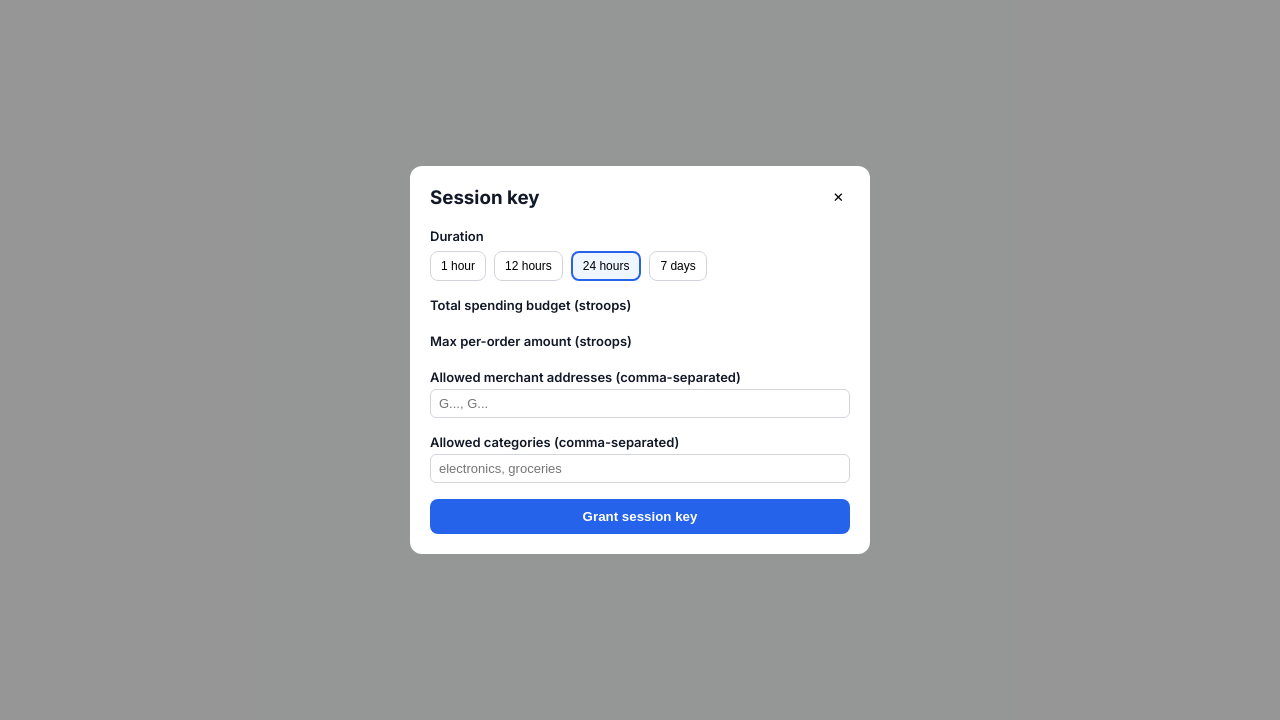
Test: SessionKeyGrantModal with Granular Permissions › validates granular input constraints when budget is zero
Click the button "Grant session key" at (640, 516), box [430,499,850,534]
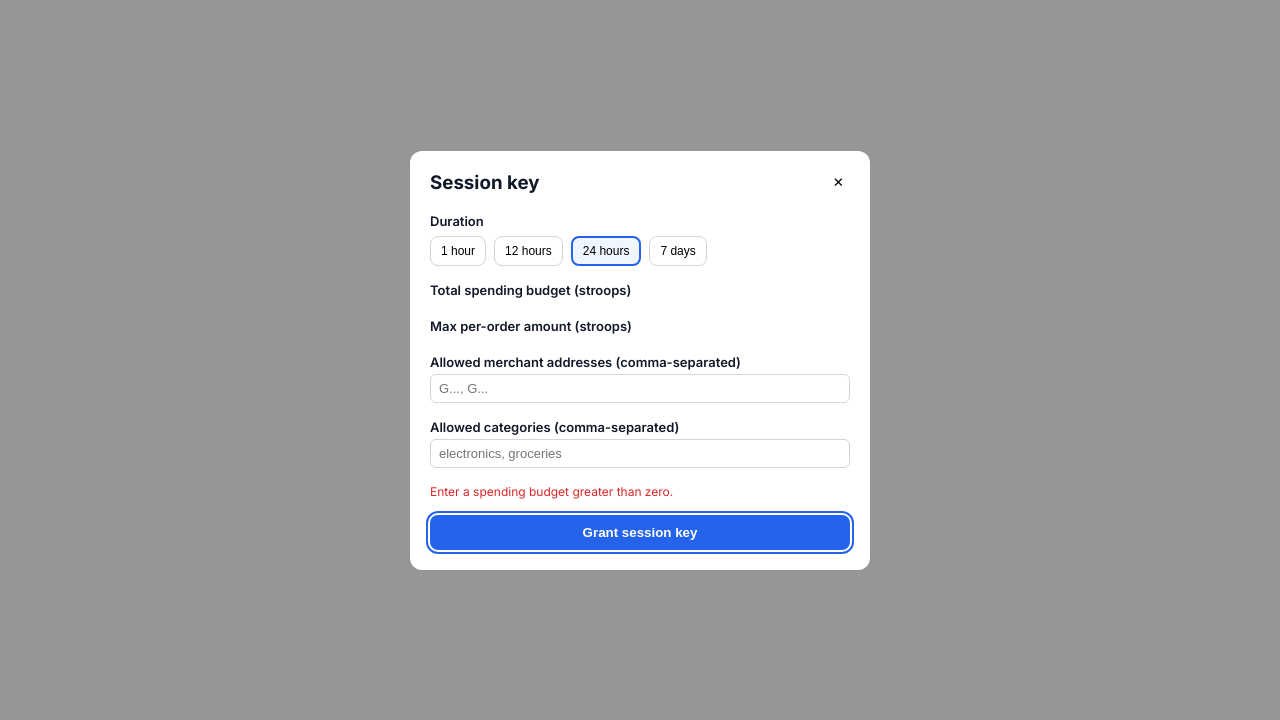
Check: the message reads "Enter a spending budget greater than zero.", box [430,484,673,498]
